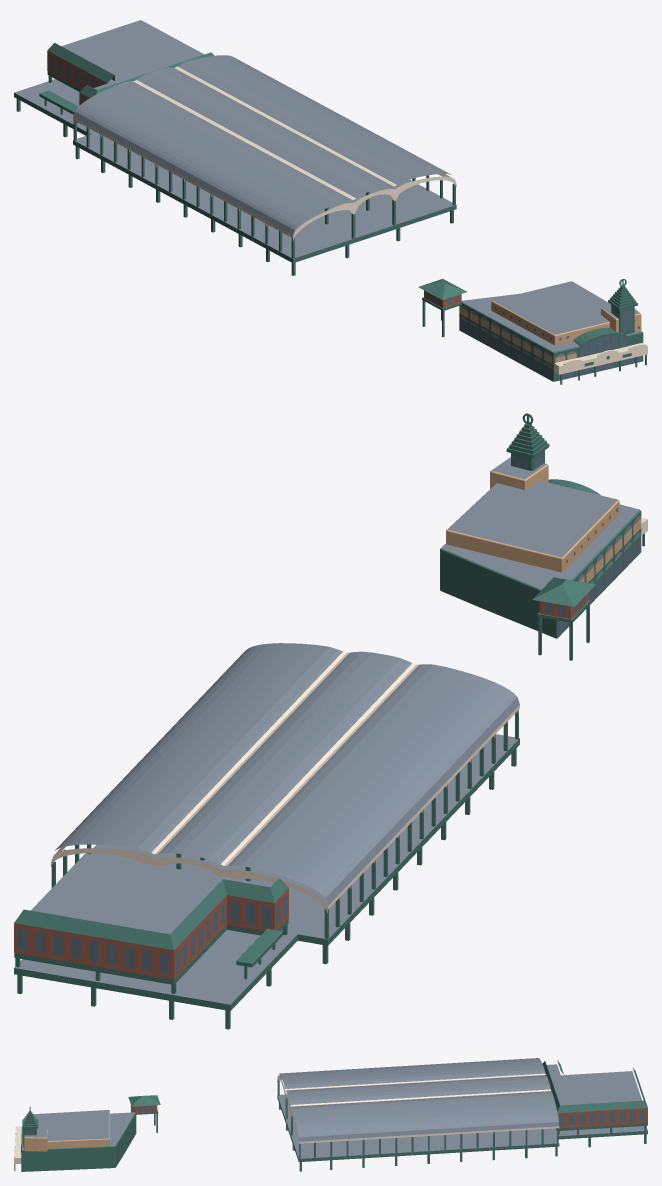
File: nyc-stillwell-terminal.glb
3 views of the same model, one above another, from view 1: azimuth 30°, elevation 25°; view 2: azimuth 150°, elevation 25°; view 3: azimuth 270°, elevation 25° (orthographic). The views are drawn at different scales.
Parts seen in each view (by area): view 1: Coney Island–Stillwell Avenue; view 2: Coney Island–Stillwell Avenue; view 3: Coney Island–Stillwell Avenue.
Boxes of the visible parts, bbox=[...] form: Coney Island–Stillwell Avenue: bbox=[14, 20, 647, 384]; Coney Island–Stillwell Avenue: bbox=[14, 413, 647, 1029]; Coney Island–Stillwell Avenue: bbox=[14, 1058, 647, 1171].
Bounding box in the file's own units: 78.77 × 27.6 × 265.
